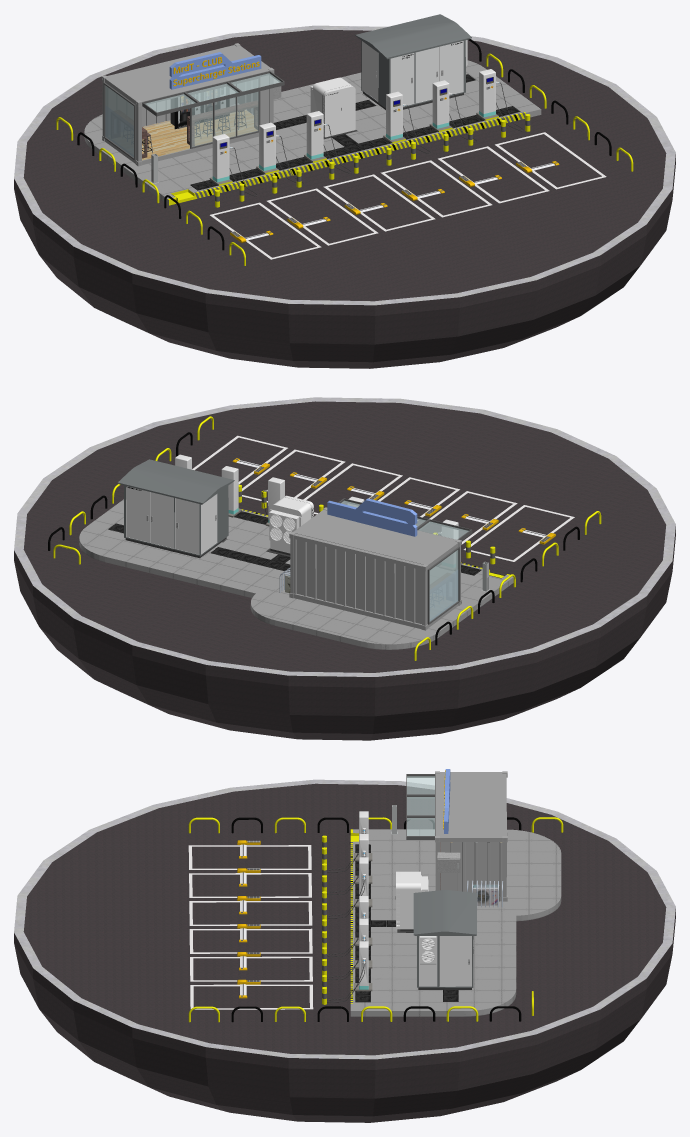
The model's file is new_energy_vehicle_charging_station.glb.
3 renders of one model, top to bottom at view 1: azimuth 30°, elevation 25°; view 2: azimuth 150°, elevation 25°; view 3: azimuth 270°, elevation 25°, orthographic.
Visible parts, largest first — view 1: ground, house, base, switchgear, block, Material2.021, HVDC_conversion_station, block_b, guard_post, vending_machine, side_post2, side_post1 (+7 smaller); view 2: ground, house, base, switchgear, block, HVDC_conversion_station, Material2.021, block_b, side_post2, side_post1, pile5; view 3: ground, base, house, switchgear, block, HVDC_conversion_station, block_b, Material2.021, side_post1, side_post2, guard_post, pile6.
Boxes of the visible parts, x1,y1,x2,y2 form: ground: (14,25,675,368); house: (102,43,284,166); base: (84,60,541,205); switchgear: (355,14,471,109); block: (210,132,606,259); Material2.021: (190,74,519,190); HVDC_conversion_station: (310,77,357,139); block_b: (230,161,559,242); guard_post: (215,114,530,207); vending_machine: (170,87,229,129); side_post2: (56,117,245,265); side_post1: (468,39,633,171); ground: (14,397,675,740); house: (279,498,472,630); base: (79,499,513,649); switchgear: (117,459,234,557); block: (192,435,574,561); HVDC_conversion_station: (266,495,313,556); Material2.021: (108,511,481,575); block_b: (232,458,555,544); side_post2: (414,511,601,660); side_post1: (48,416,213,564); pile5: (221,466,241,517); ground: (14,779,675,1122); base: (350,829,561,1016); house: (406,769,507,907); switchgear: (413,890,476,989); block: (188,845,313,1009); HVDC_conversion_station: (395,871,428,932); block_b: (237,840,260,998); Material2.021: (355,844,458,1002); side_post1: (188,991,533,1022); side_post2: (188,817,563,833); guard_post: (322,835,326,1004); pile6: (354,941,372,991).
Size of what is drawn, in the model's own units: 953 by 328 by 953.
52 materials, 20 textured.
